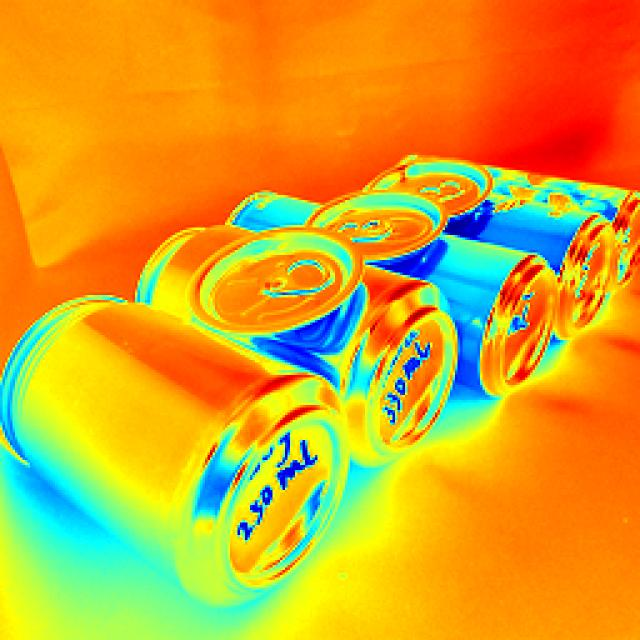Aluminium Food Cans: (5, 304, 308, 577), (161, 215, 420, 418), (257, 186, 533, 370), (412, 166, 609, 312)
